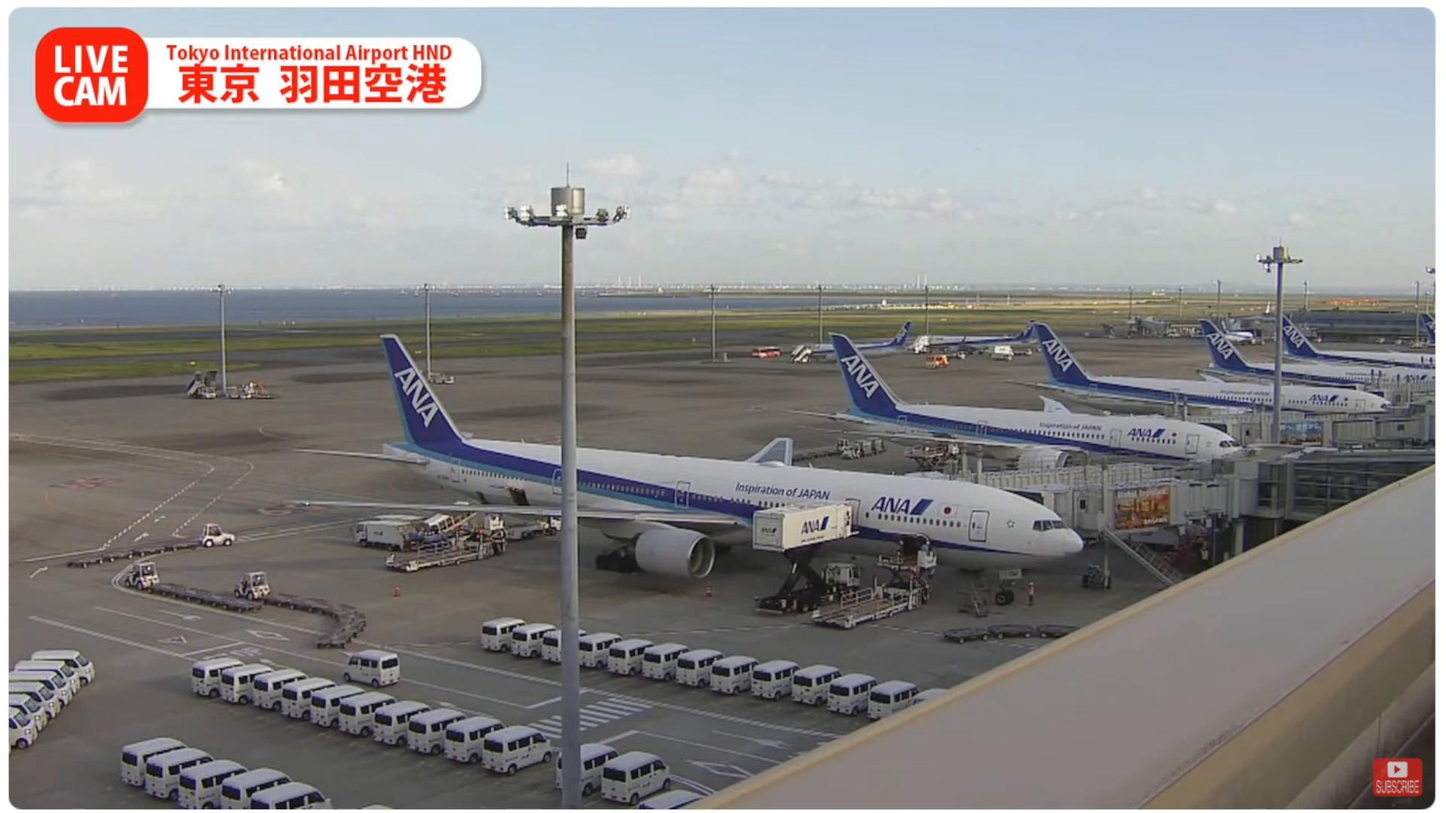Aerobridge: (990, 474, 1217, 523), (903, 458, 1204, 486)
Airplane: (297, 333, 1082, 582)
Baggage truck: (350, 518, 412, 549), (381, 512, 423, 541)
Catering: (751, 501, 860, 615)
Dolly: (267, 593, 368, 647), (68, 538, 203, 570), (144, 582, 263, 612), (945, 622, 1080, 645)
JCPL: (819, 550, 928, 632), (369, 528, 510, 572)
Skyloader: (420, 510, 487, 544)
Tractor: (234, 573, 273, 601), (123, 563, 161, 587), (200, 523, 236, 547)
Window: (1253, 443, 1435, 520)
